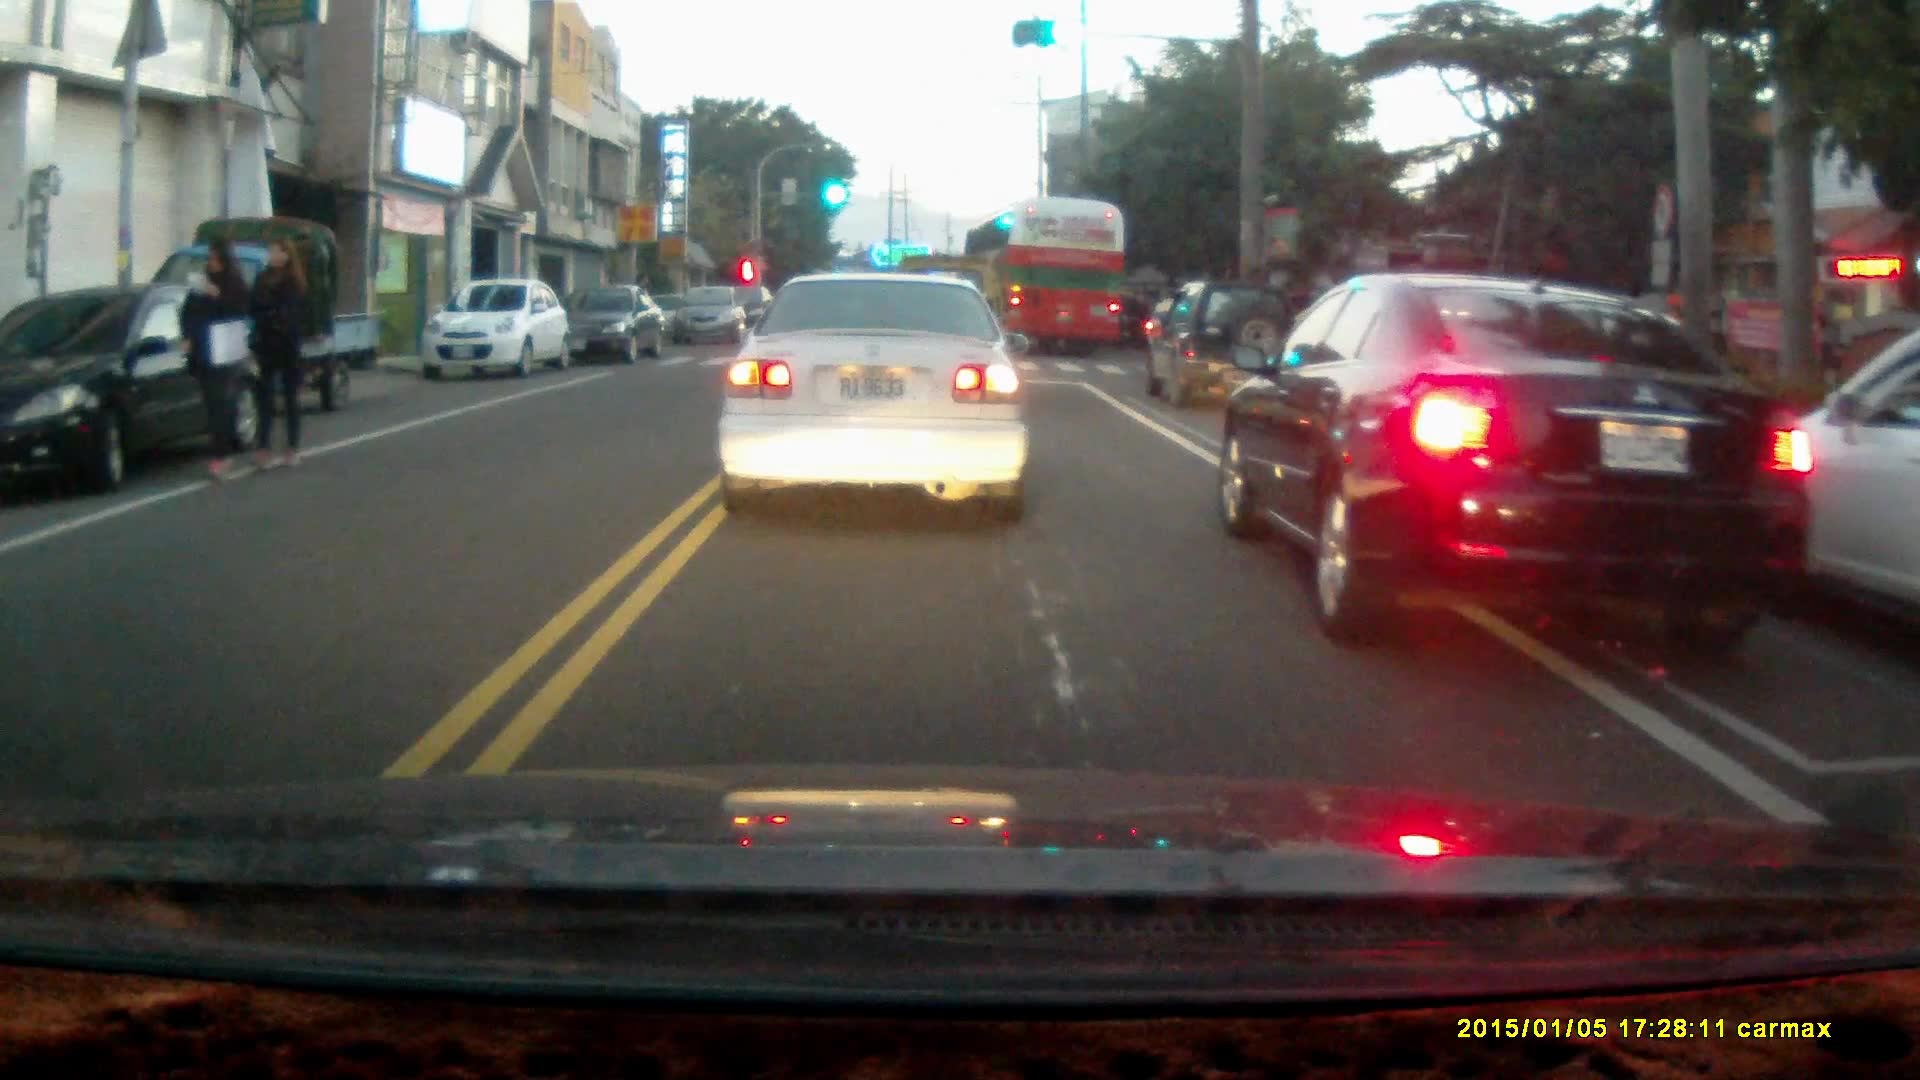pedestrian: (178, 234, 251, 482), (246, 233, 307, 464)
vehicle: (1218, 273, 1822, 636), (715, 266, 1030, 522), (1712, 333, 1920, 613), (1, 278, 275, 489), (143, 213, 389, 414), (963, 199, 1125, 358), (1151, 278, 1292, 408), (422, 279, 574, 381), (559, 278, 670, 367), (672, 286, 754, 346)
